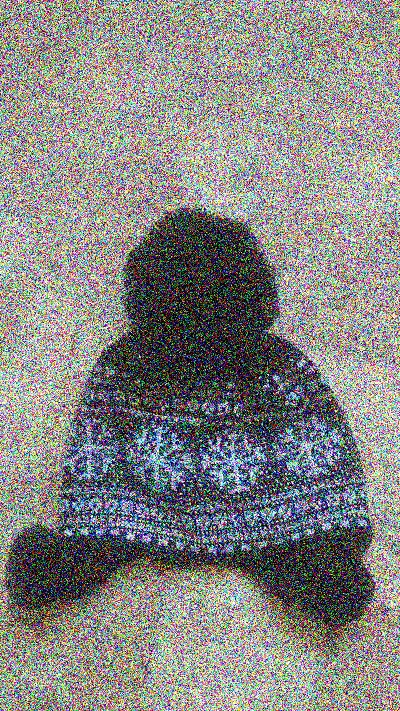Hat: (6, 189, 399, 660)
